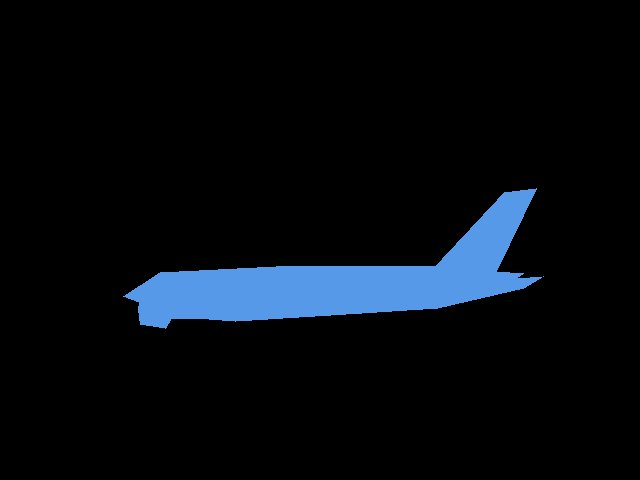Airplane: (123, 188, 544, 328)
